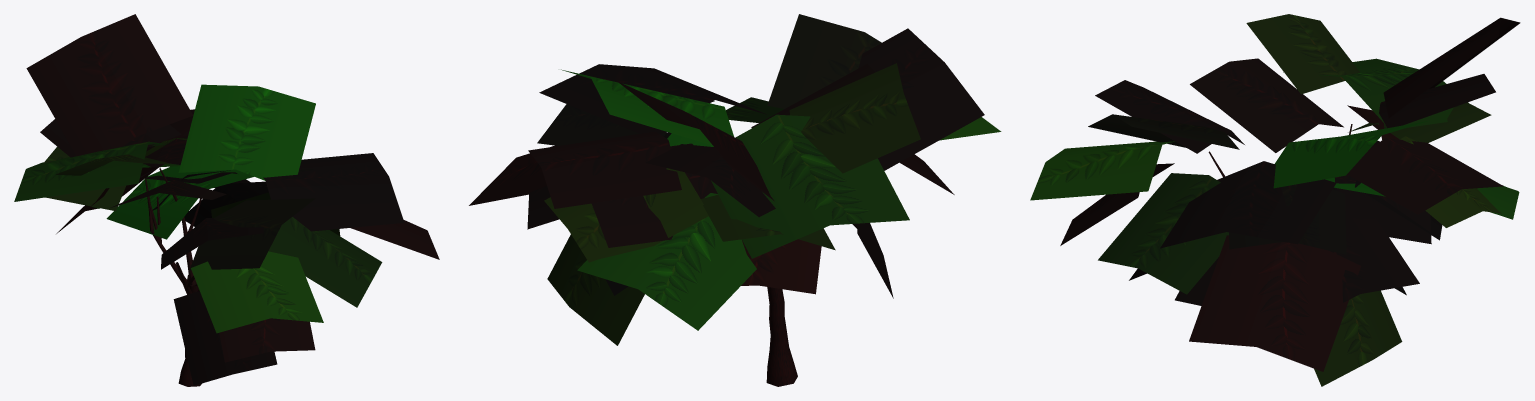
Rendered from veg_neem1_card.glb.
The picture shows the model from 3 angles, left to right: view 1: azimuth 30°, elevation 25°; view 2: azimuth 150°, elevation 25°; view 3: azimuth 270°, elevation 25°; orthographic projection. The views are drawn at different scales.
Visible parts, largest first — view 1: neem_1; view 2: neem_1; view 3: neem_1.
Part boxes in pixels (x1,y1,x2,y2): neem_1: [14, 14, 439, 386]; neem_1: [469, 14, 1001, 386]; neem_1: [1030, 14, 1520, 386].
Size of the model in its own units: 13.62 by 10.36 by 13.82.
Materials: 2 (2 with a texture image).
